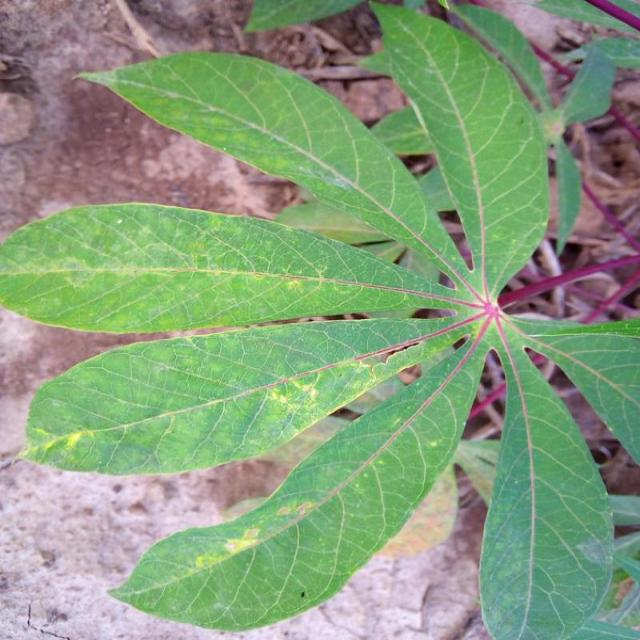cassava leaf: (1, 2, 638, 637), (105, 327, 489, 632), (71, 48, 472, 289), (17, 312, 457, 477), (0, 199, 464, 334), (368, 1, 551, 302), (477, 319, 615, 638)
